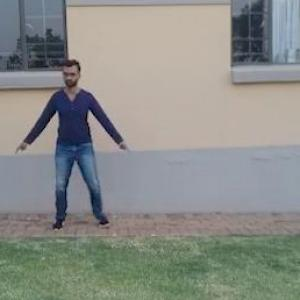land: (20, 57, 145, 246)
